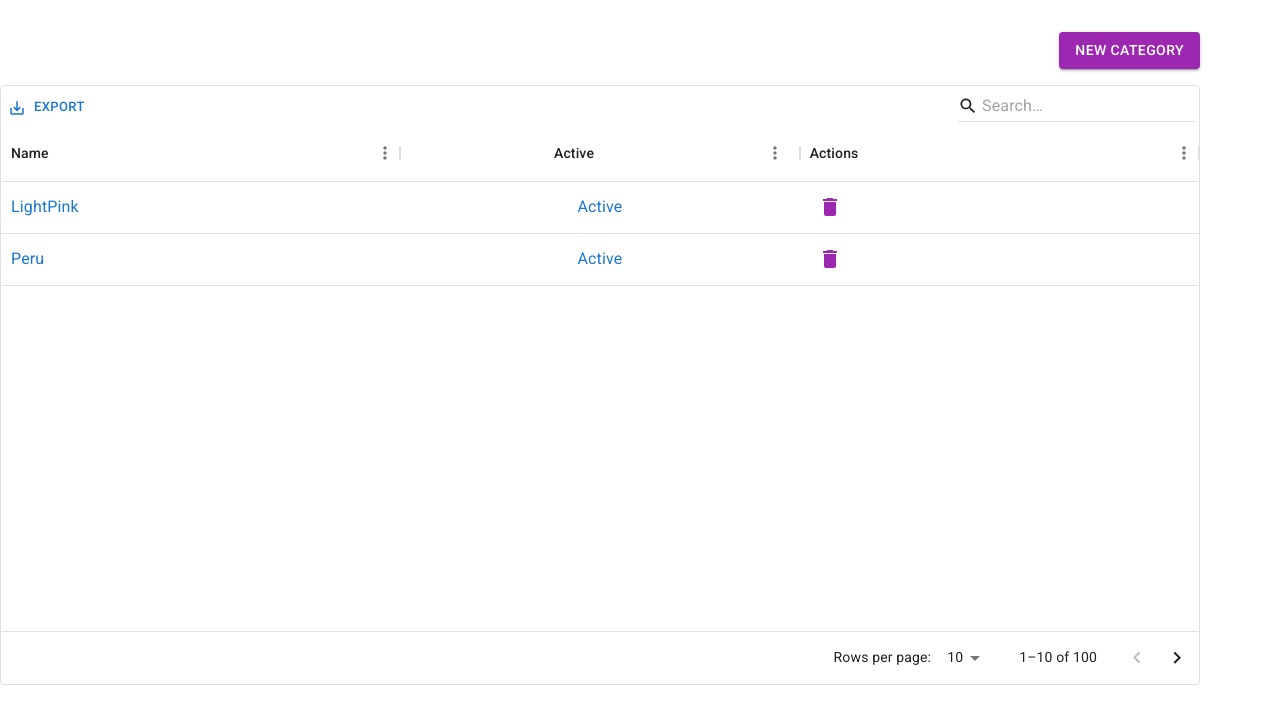
it: ListCategory › should handle delete category error
Expected: the text "LightPink" is shown, [11, 195, 79, 219]
Click the button with test id "delete-button" in the row of "LightPink".
click(830, 207)  # box [810, 187, 850, 227]
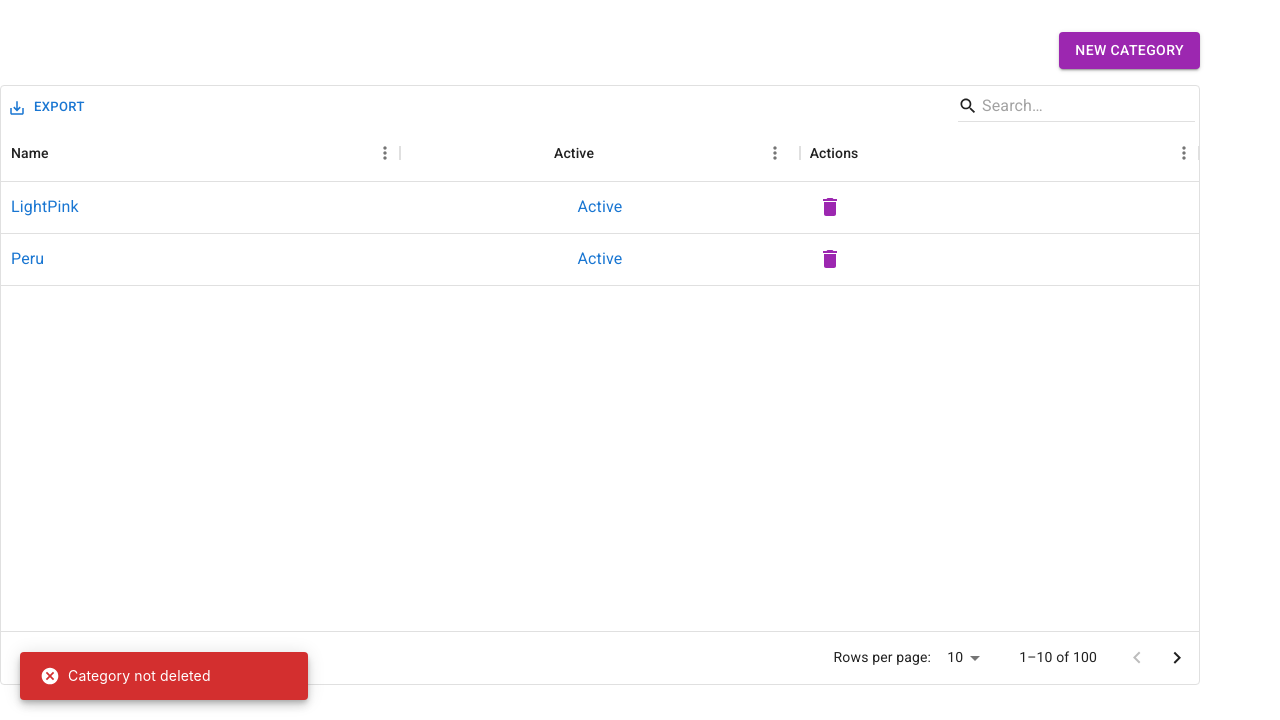
Now the text "Category not deleted" is shown, box [40, 666, 211, 686]
